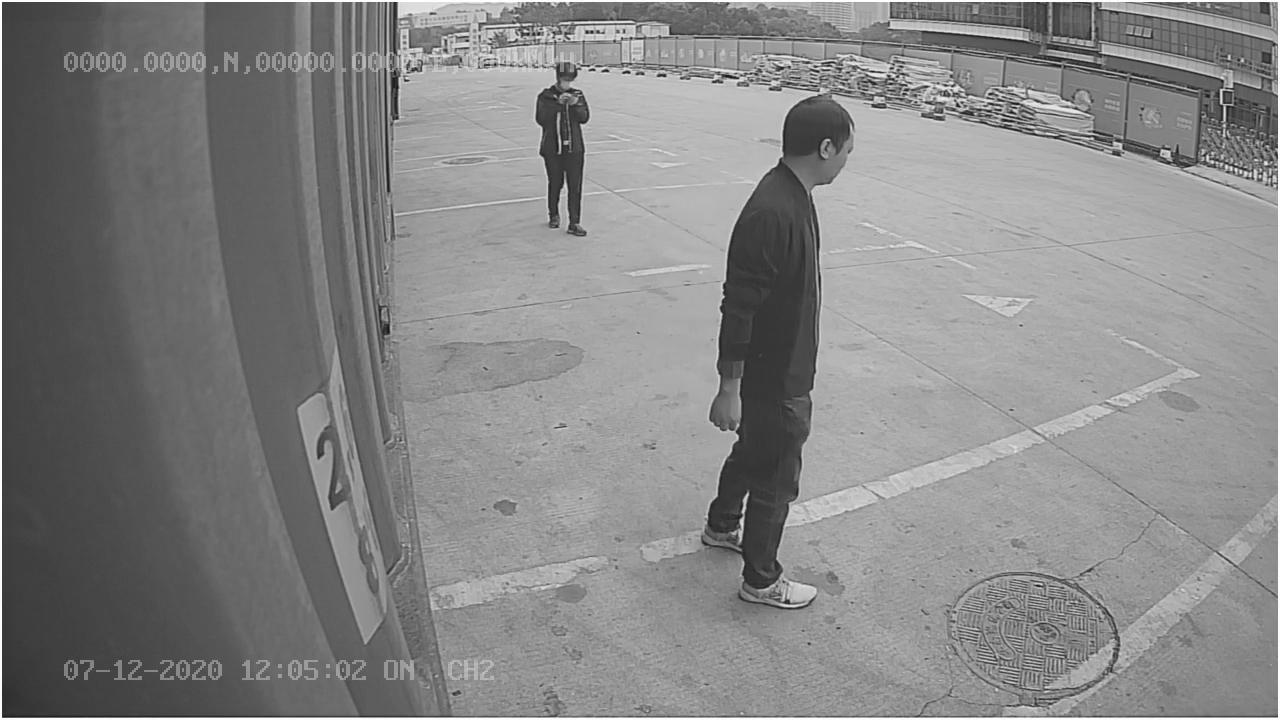person: (698, 87, 856, 606)
